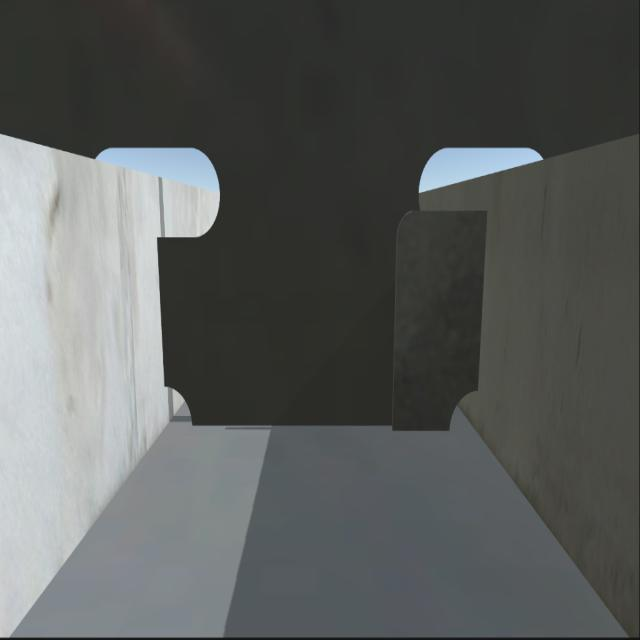fillet_hole: (156, 386, 192, 434), (444, 392, 482, 436)
fillet_yong_jeop_jang: (193, 427, 444, 428)
longi_yong_jeop_jang: (474, 221, 488, 383), (156, 240, 162, 388)
plate_CP05: (396, 213, 488, 435)
